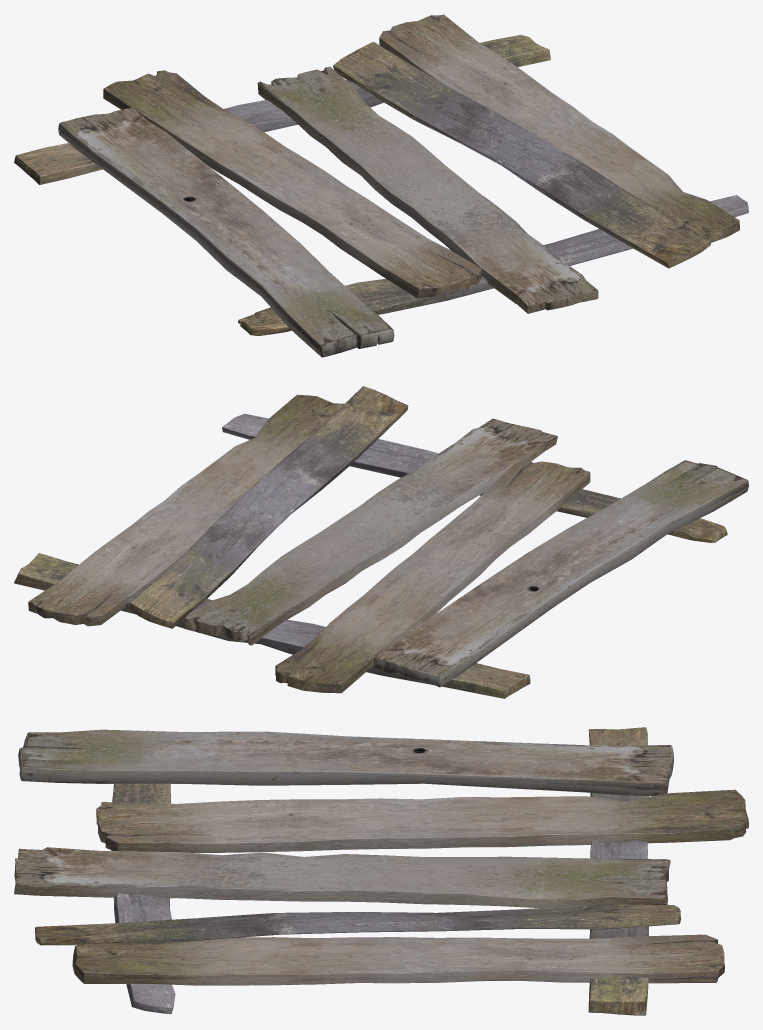
Rendered from SM_WoodPlank_01_11_bridge.fbx.
3 renders of one model, top to bottom at view 1: azimuth 30°, elevation 25°; view 2: azimuth 150°, elevation 25°; view 3: azimuth 270°, elevation 25°, orthographic. The views are drawn at different scales.
Parts seen in each view (by area): view 1: sm_WoodPlank_01_11_bridge_LOD0; view 2: sm_WoodPlank_01_11_bridge_LOD0; view 3: sm_WoodPlank_01_11_bridge_LOD0.
Part boxes in pixels (box(x1,y1,x2,y2)): sm_WoodPlank_01_11_bridge_LOD0: box(14, 14, 748, 357); sm_WoodPlank_01_11_bridge_LOD0: box(14, 386, 748, 698); sm_WoodPlank_01_11_bridge_LOD0: box(14, 727, 748, 1015).
Bounding box in the file's own units: 169 × 150 × 10.01.
